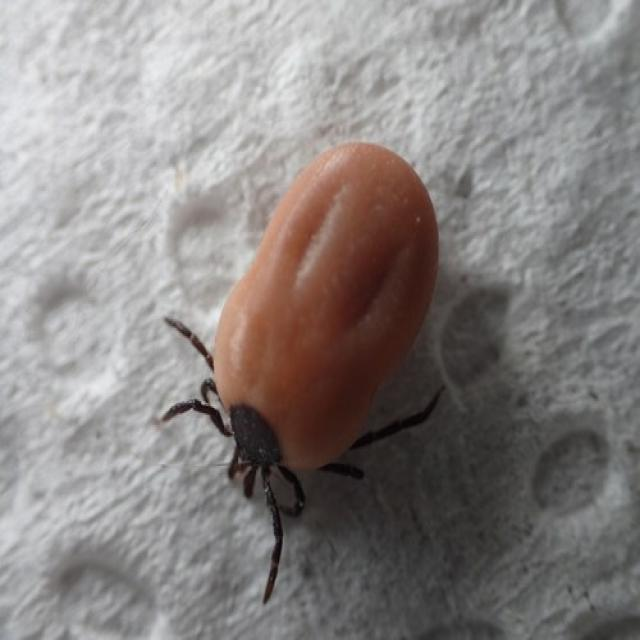Ixodes Ricinus-F-Fed: (161, 143, 444, 604)
